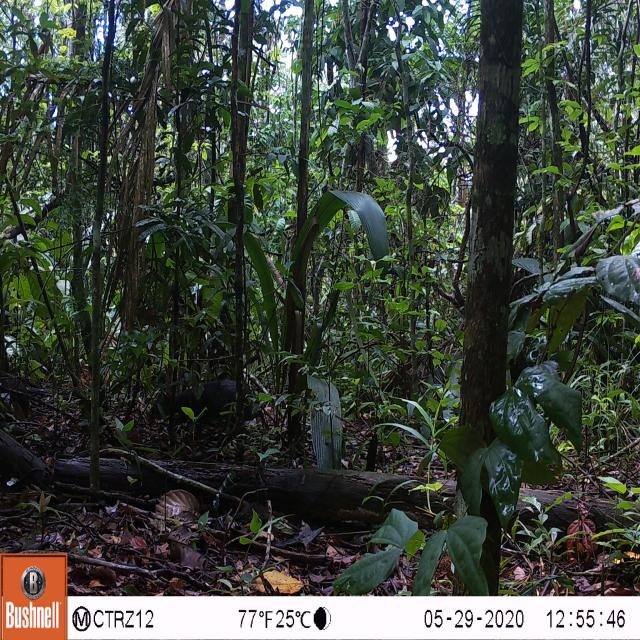Black Agouti: (144, 356, 264, 454)
